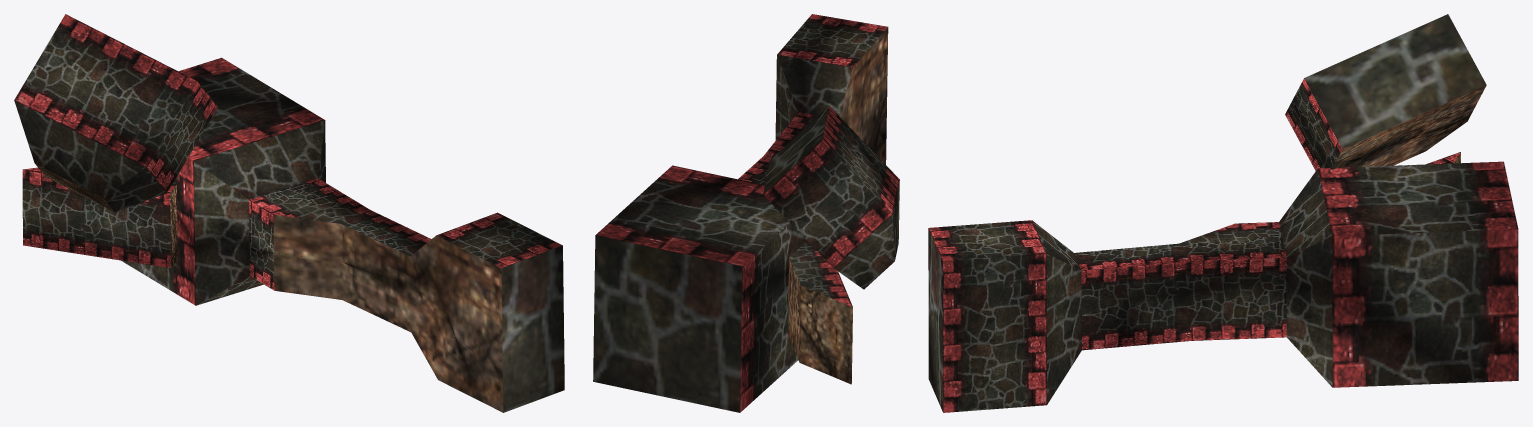
File: column-B-destr_04.obj
3 views of the same model, side by side, from view 1: azimuth 30°, elevation 25°; view 2: azimuth 150°, elevation 25°; view 3: azimuth 270°, elevation 25° (orthographic). The views are drawn at different scales.
Visible parts, largest first — view 1: (null); view 2: (null); view 3: (null).
Part boxes in pixels (x1,y1,x2,y2): (null): (14, 14, 564, 412); (null): (593, 14, 899, 412); (null): (928, 14, 1518, 412).
Bounding box in the file's own units: 2.84 × 2.25 × 4.43.
